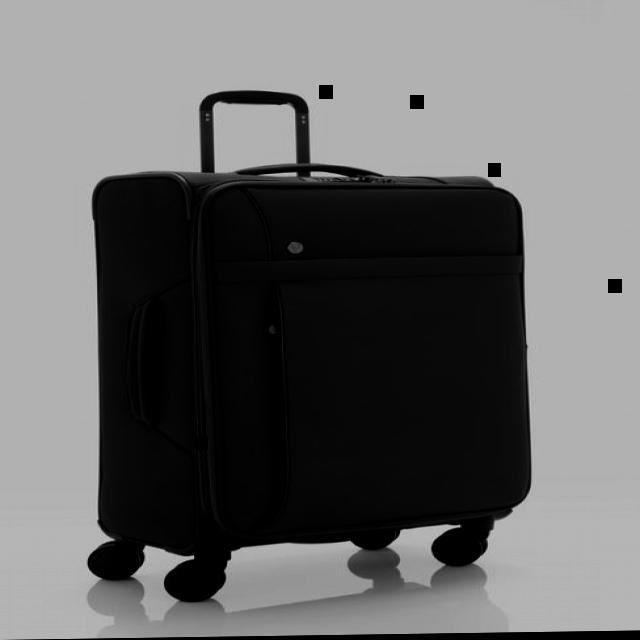luggage: (71, 159, 539, 604)
